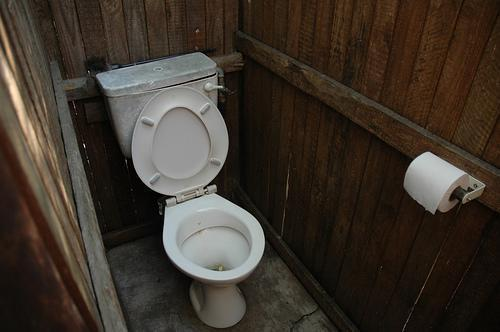Sanitario: (97, 60, 265, 331)
